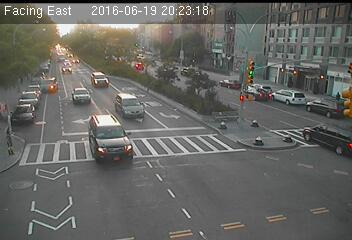neg: (149, 23, 186, 73), (184, 82, 211, 117), (271, 39, 290, 63), (257, 61, 273, 81)
pos: (1, 127, 23, 157), (332, 88, 347, 108)
